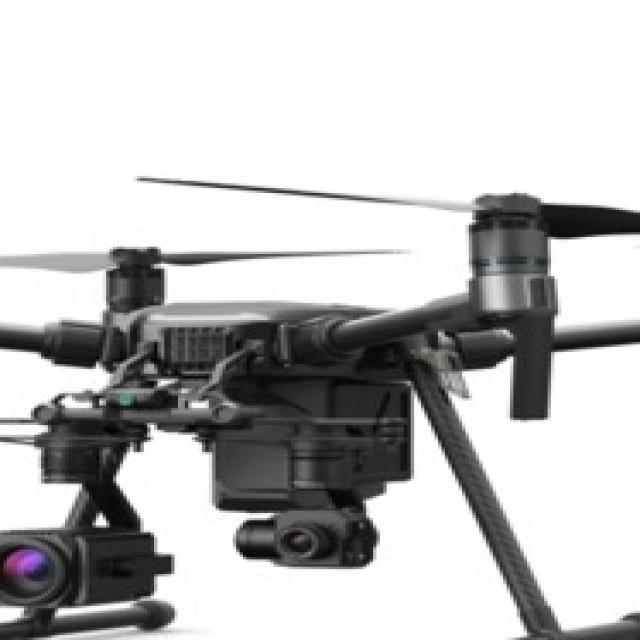drone: (0, 166, 640, 494)
